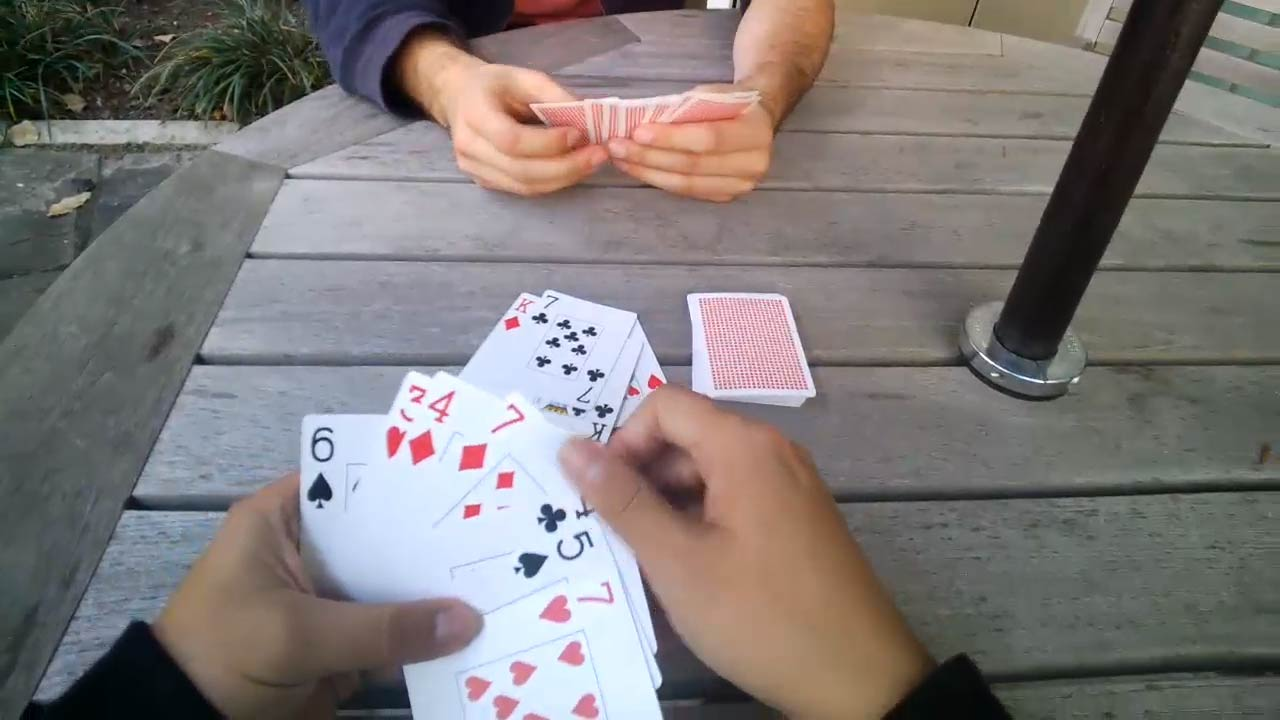hand: (563, 394, 926, 717), (157, 476, 481, 717), (605, 76, 777, 203), (446, 65, 615, 189)
